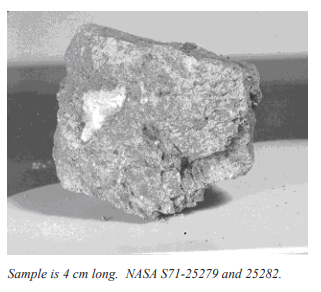Breccia: (56, 25, 262, 235), (53, 74, 263, 201), (96, 49, 221, 194)
